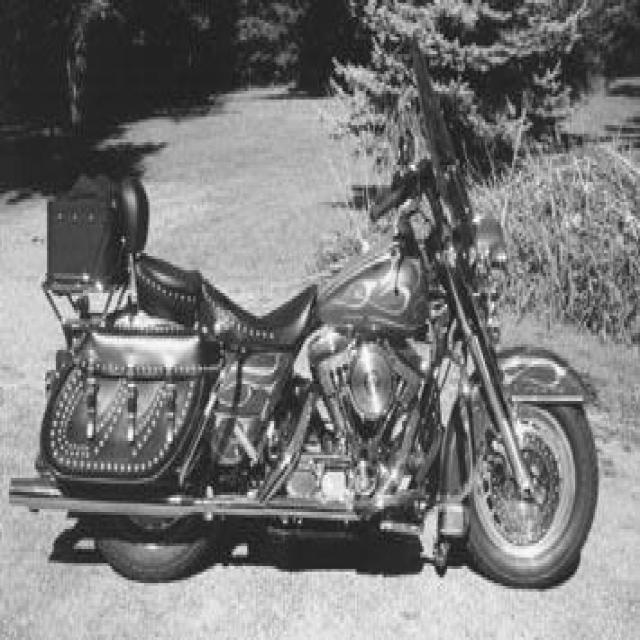Motorcycle: (13, 62, 600, 588)
